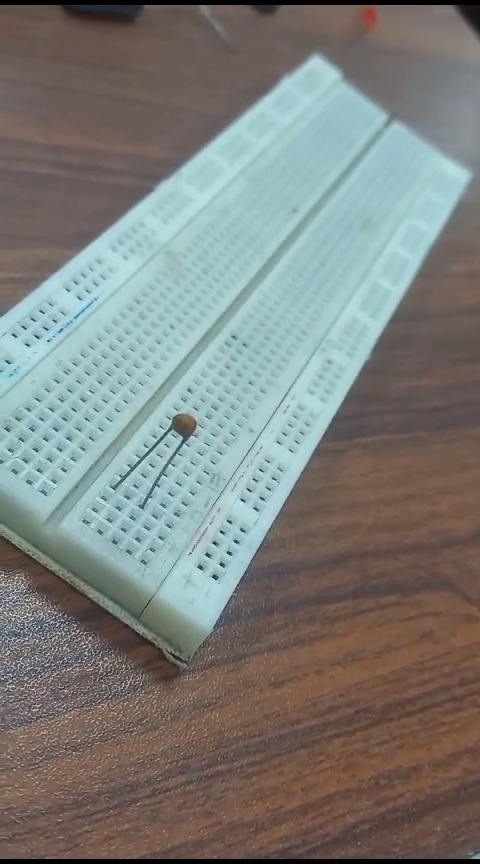ceramic capacitor: (111, 401, 203, 495)
